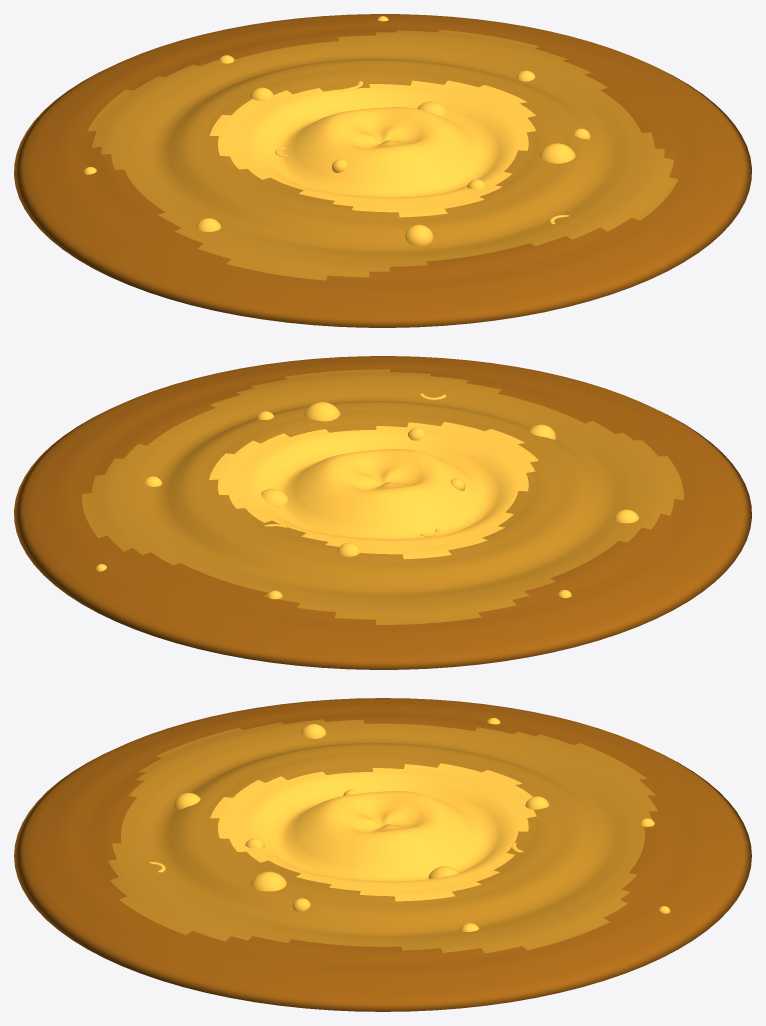
Rendered from hot_oil.glb.
The picture shows the model from 3 angles, top to bottom: view 1: azimuth 30°, elevation 25°; view 2: azimuth 150°, elevation 25°; view 3: azimuth 270°, elevation 25°; orthographic projection.
Parts seen in each view (by area): view 1: HotOilPool, HotOilBubbles; view 2: HotOilPool, HotOilBubbles; view 3: HotOilPool, HotOilBubbles.
Boxes of the visible parts, x1,y1,x2,y2 form: HotOilPool: [14, 14, 751, 327]; HotOilBubbles: [83, 16, 590, 246]; HotOilPool: [14, 356, 751, 669]; HotOilBubbles: [95, 393, 638, 599]; HotOilPool: [14, 698, 751, 1011]; HotOilBubbles: [149, 718, 670, 931].
Size of the model in its own units: 0.256 by 0.0184 by 0.256.
